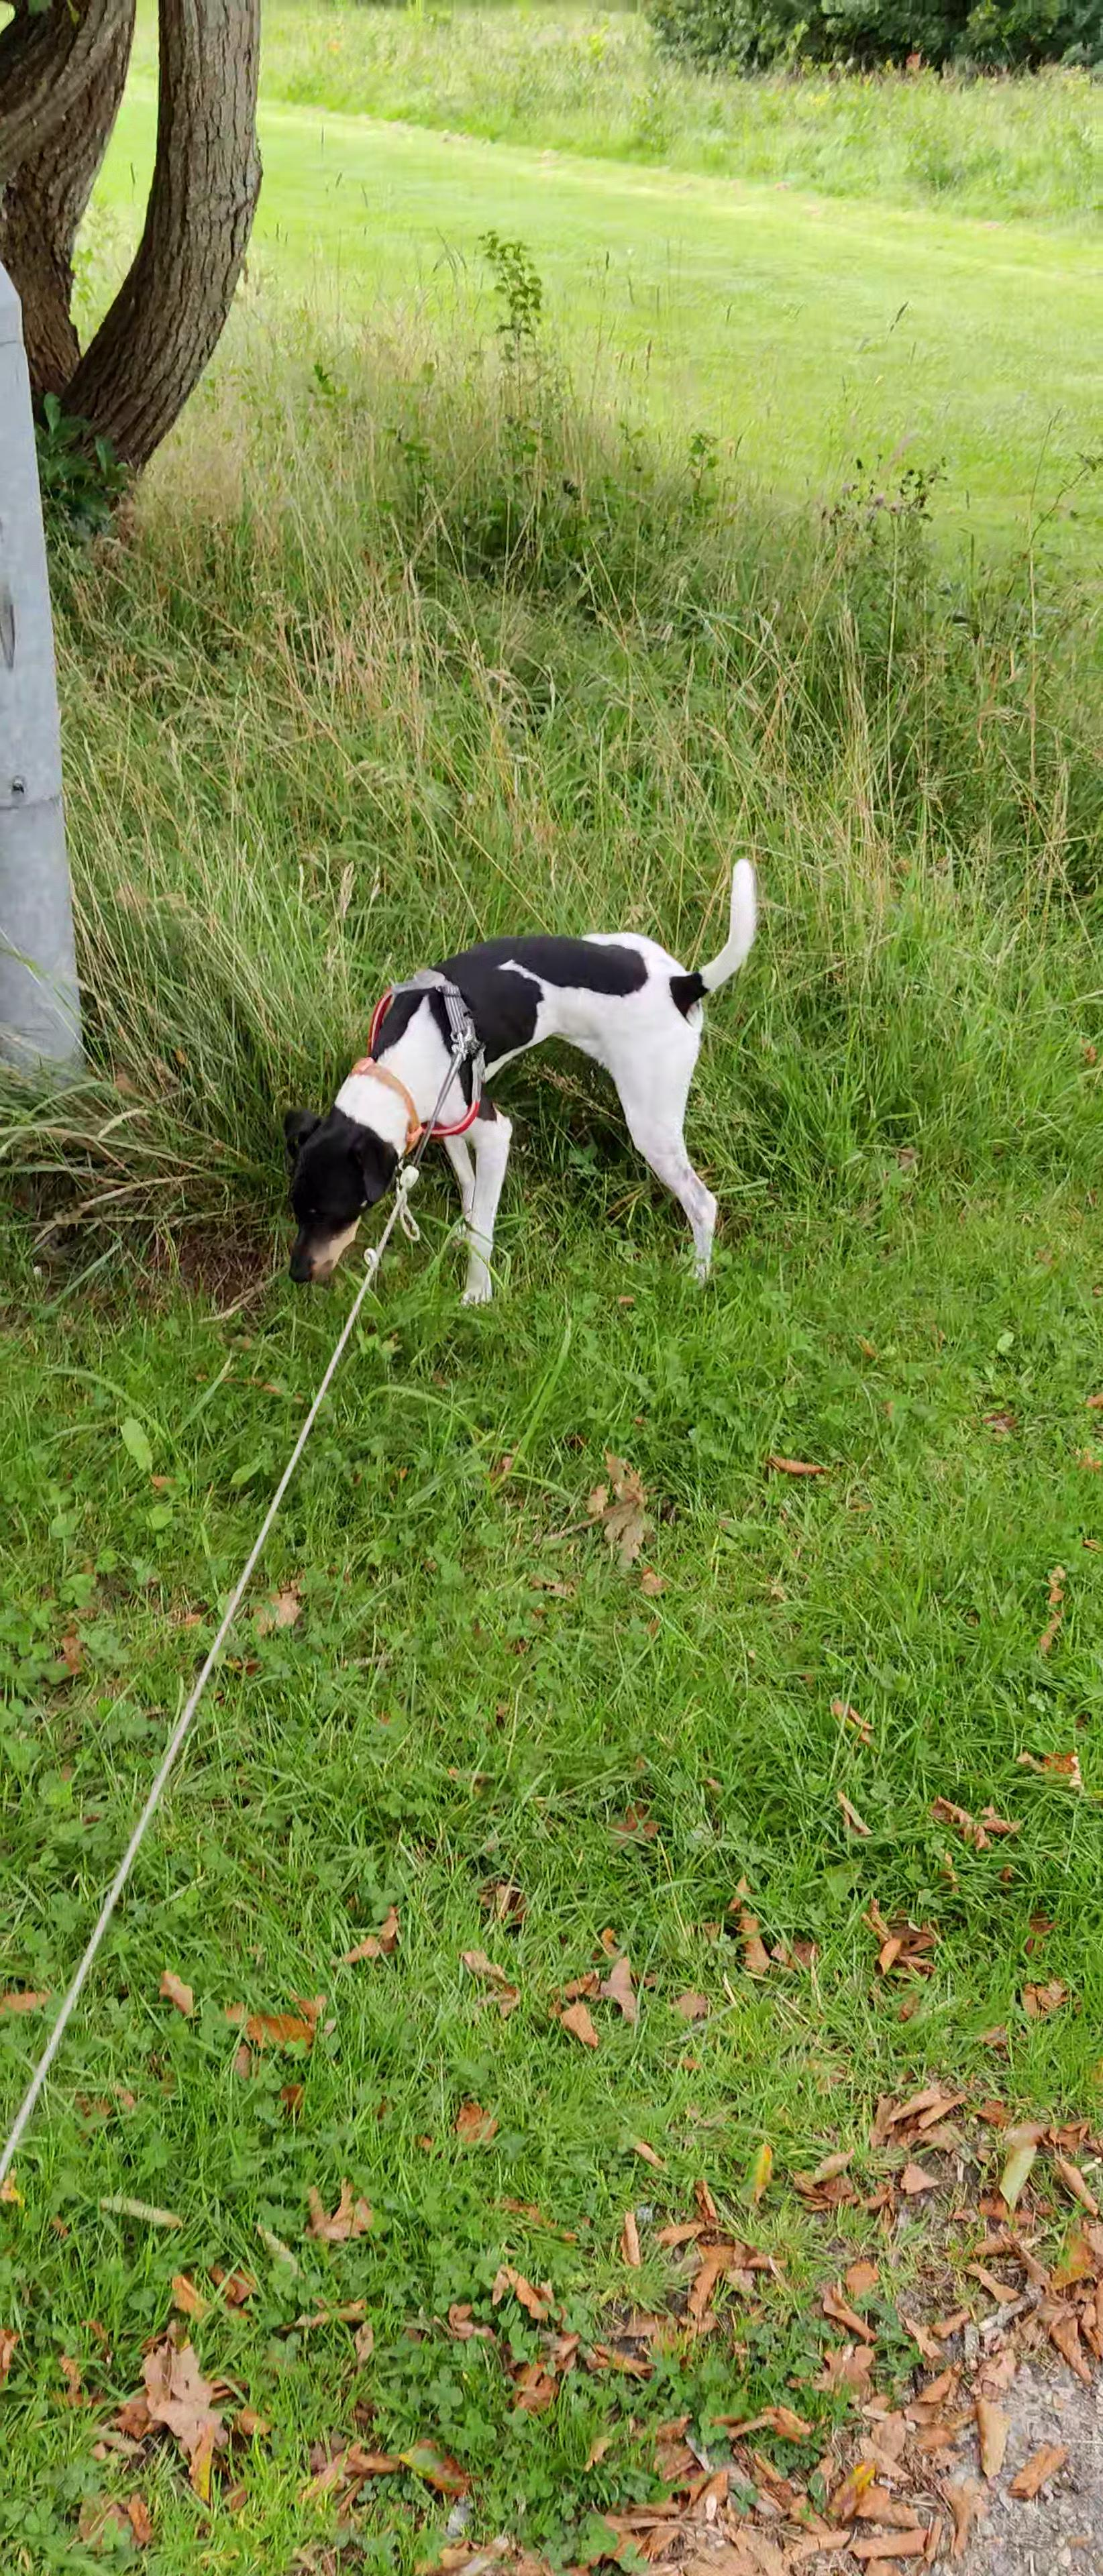Dog: (273, 851, 763, 1311)
